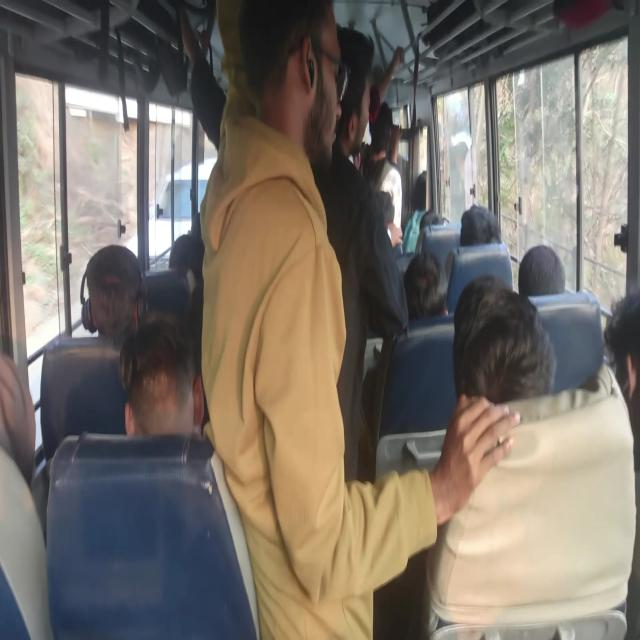person: (198, 0, 522, 638), (311, 24, 409, 484), (452, 274, 556, 405), (603, 284, 639, 638), (118, 311, 204, 437), (82, 244, 144, 348), (360, 101, 403, 238), (0, 352, 36, 487), (403, 250, 448, 320), (518, 244, 565, 296), (401, 170, 427, 254), (459, 204, 502, 247)
